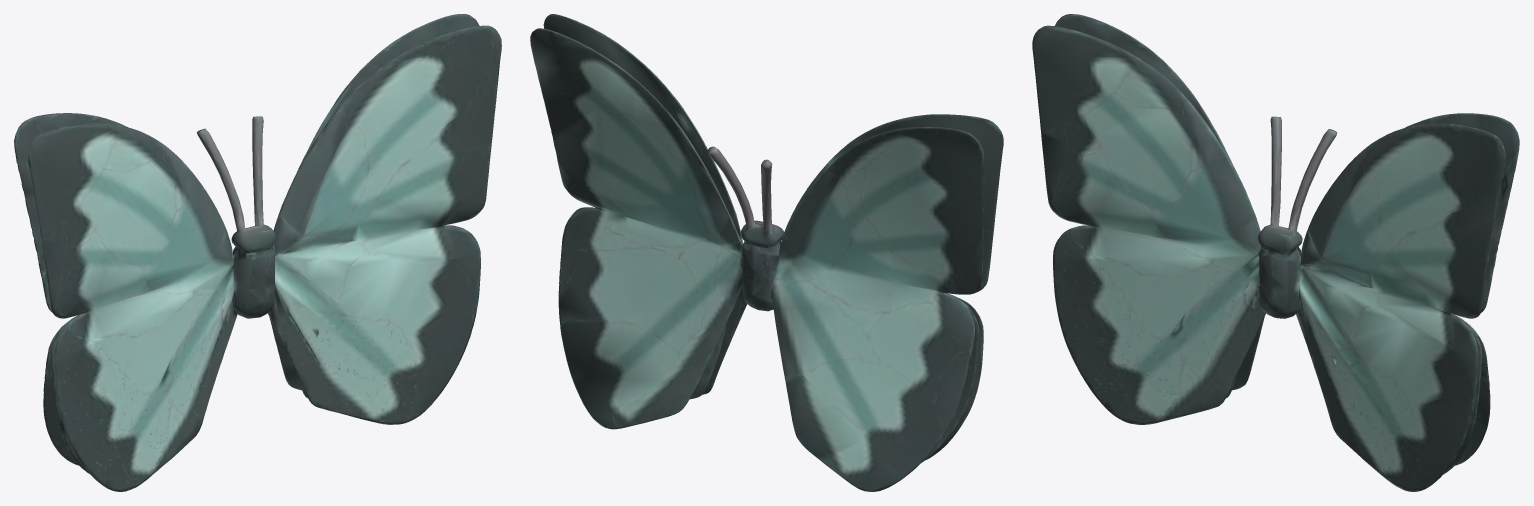
Rendered from greenbutterfly.glb.
The picture shows the model from 3 angles, left to right: view 1: azimuth 30°, elevation 25°; view 2: azimuth 150°, elevation 25°; view 3: azimuth 330°, elevation 25°; orthographic projection. The views are drawn at different scales.
Visible parts, largest first — view 1: node_0; view 2: node_0; view 3: node_0.
Boxes of the visible parts, box(x1,y1,x2,y2) form: node_0: box(14, 14, 501, 491); node_0: box(530, 14, 1003, 491); node_0: box(1032, 14, 1519, 491).
Bounding box in the file's own units: 0.9726 × 0.7444 × 0.153.
1 material, 1 textured.
